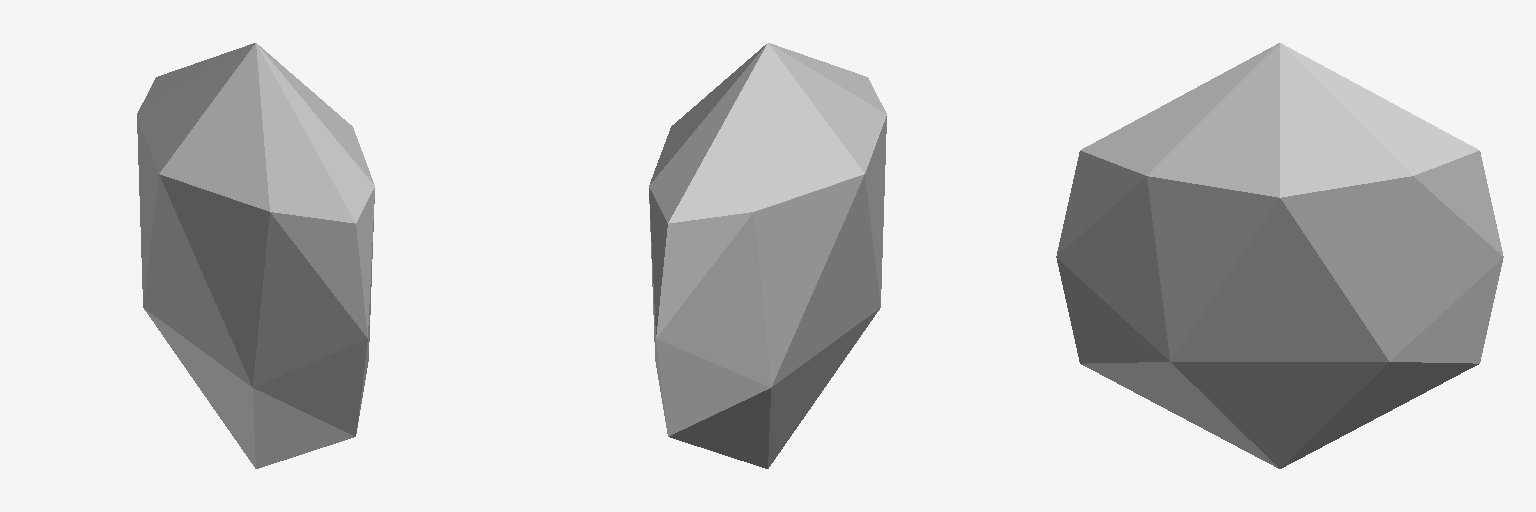
Rendered from orbital1.obj.
3 renders of one model, left to right at view 1: azimuth 30°, elevation 25°; view 2: azimuth 150°, elevation 25°; view 3: azimuth 270°, elevation 25°, orthographic.
Parts seen in each view (by area): view 1: Icosphere; view 2: Icosphere; view 3: Icosphere.
Part boxes in pixels (x1,y1,x2,y2): Icosphere: (137,43,374,468); Icosphere: (649,43,886,468); Icosphere: (1056,43,1503,468).
Bounding box in the file's own units: 0.8515 × 1.79 × 1.7.